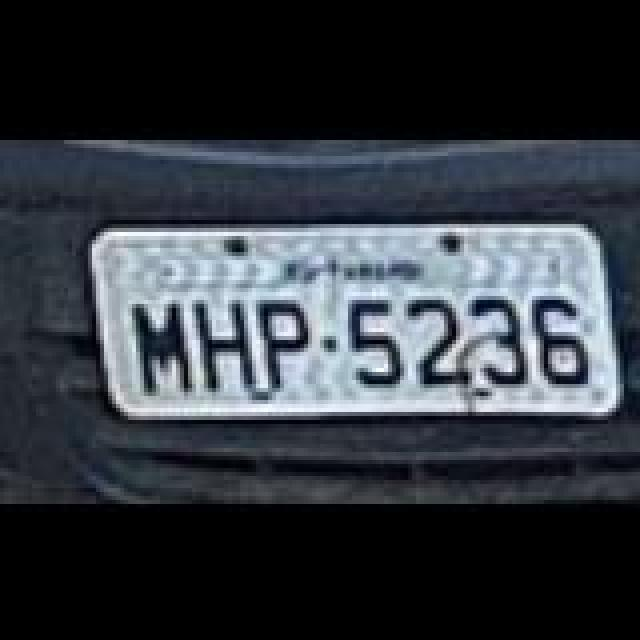2: (408, 298, 472, 390)
3: (472, 294, 528, 386)
5: (346, 300, 406, 388)
6: (528, 292, 592, 388)
H: (194, 296, 262, 392)
M: (132, 300, 196, 396)
P: (256, 296, 320, 392)
